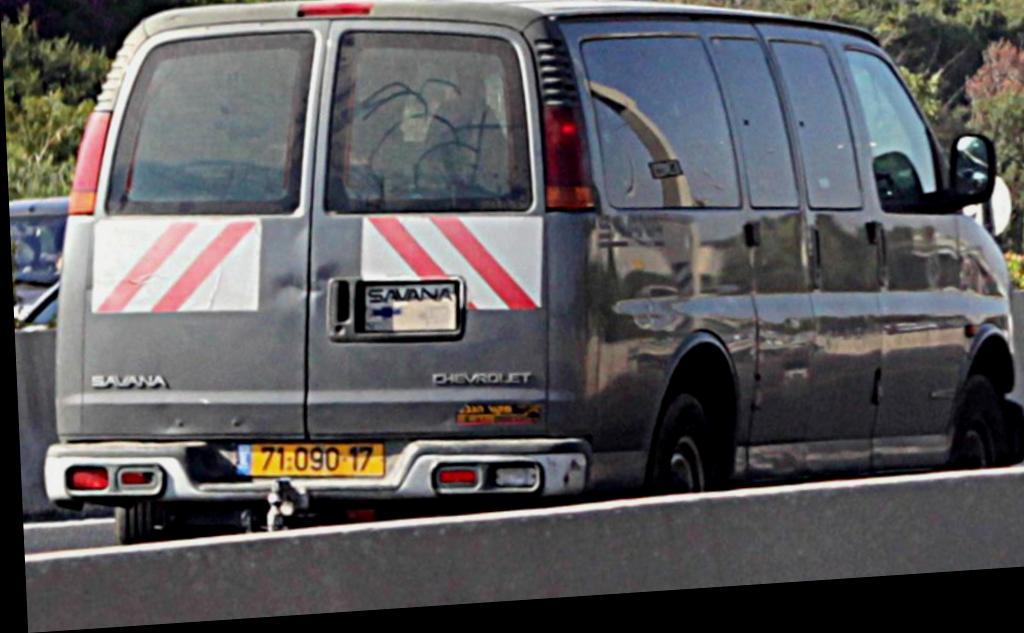License_Plate: (238, 434, 388, 488)
